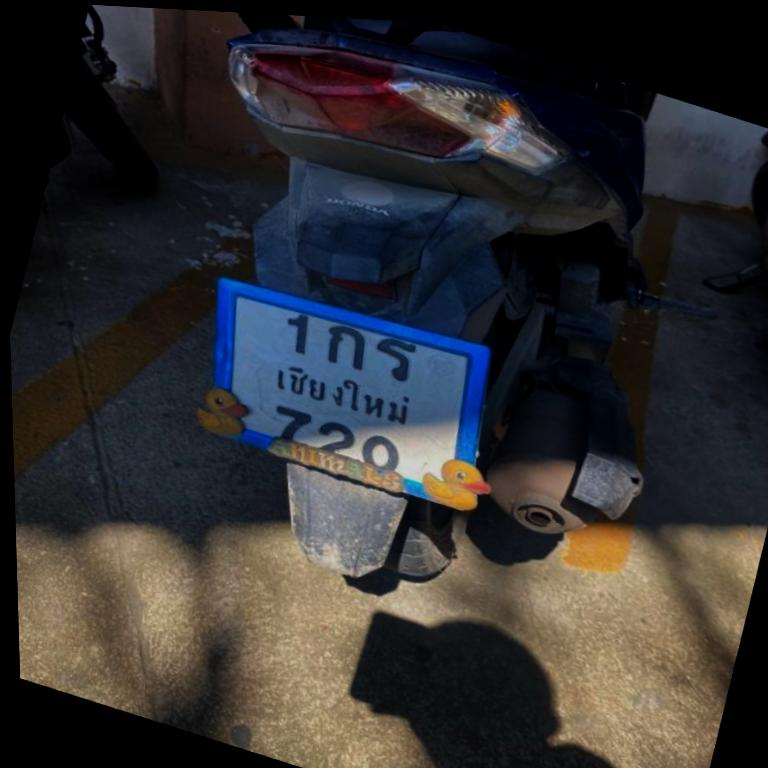license plate: (176, 254, 521, 527)
